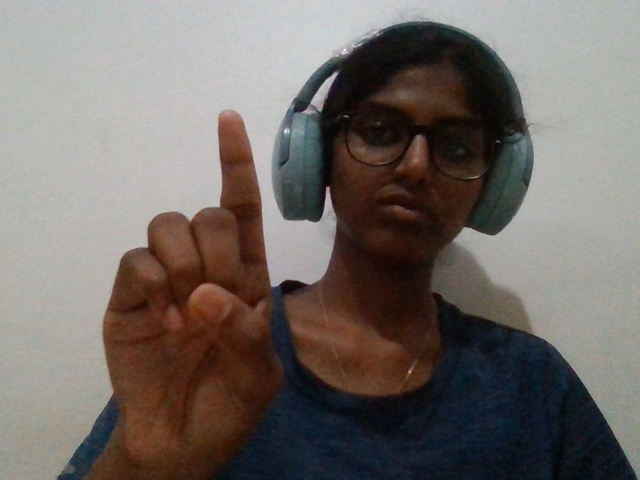D: (62, 96, 316, 479)
